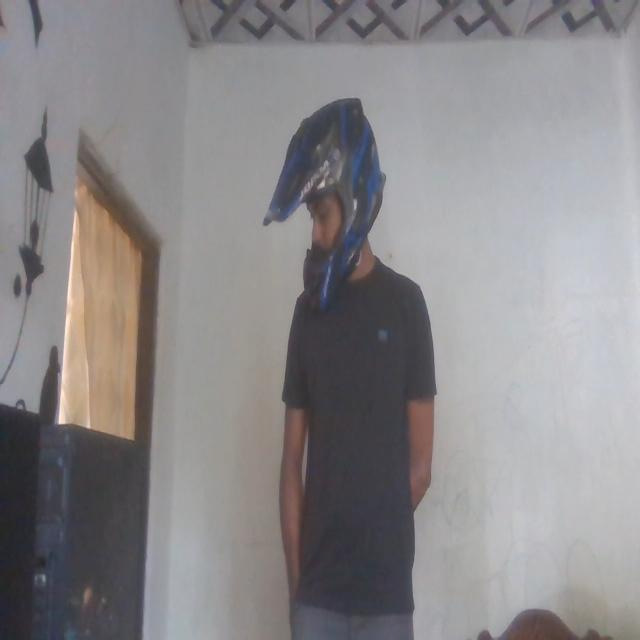Helmet_Wearer: (261, 86, 381, 304)
Person: (264, 101, 438, 640)
